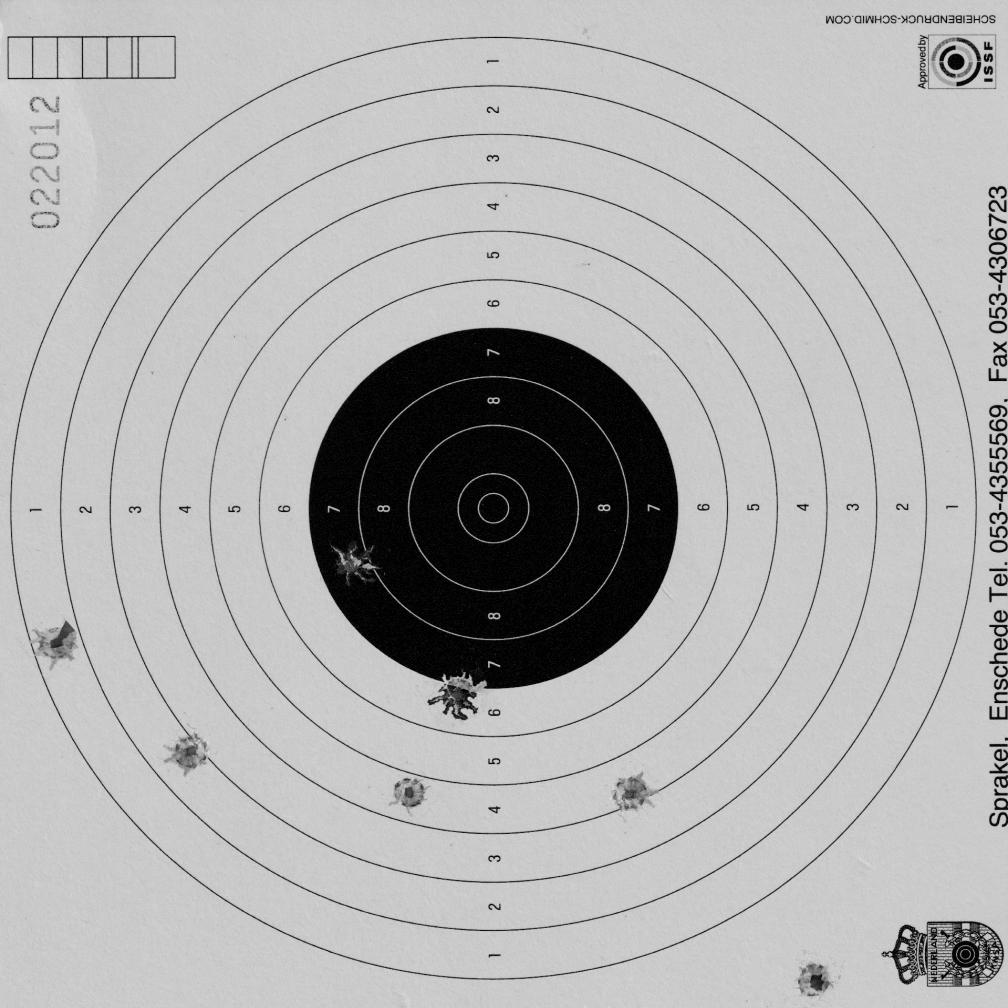0: (792, 961, 836, 1000)
1: (27, 618, 79, 672)
3: (163, 724, 215, 782)
4: (610, 770, 658, 823), (387, 776, 430, 818)
7: (428, 670, 488, 720)
8: (329, 539, 384, 588)
Target: (9, 32, 979, 983)
black_contour: (306, 327, 679, 689)
